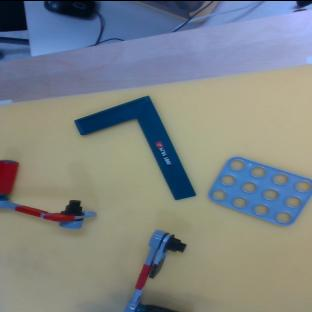non_pass: (123, 226, 187, 312)
pass: (0, 156, 103, 236)
